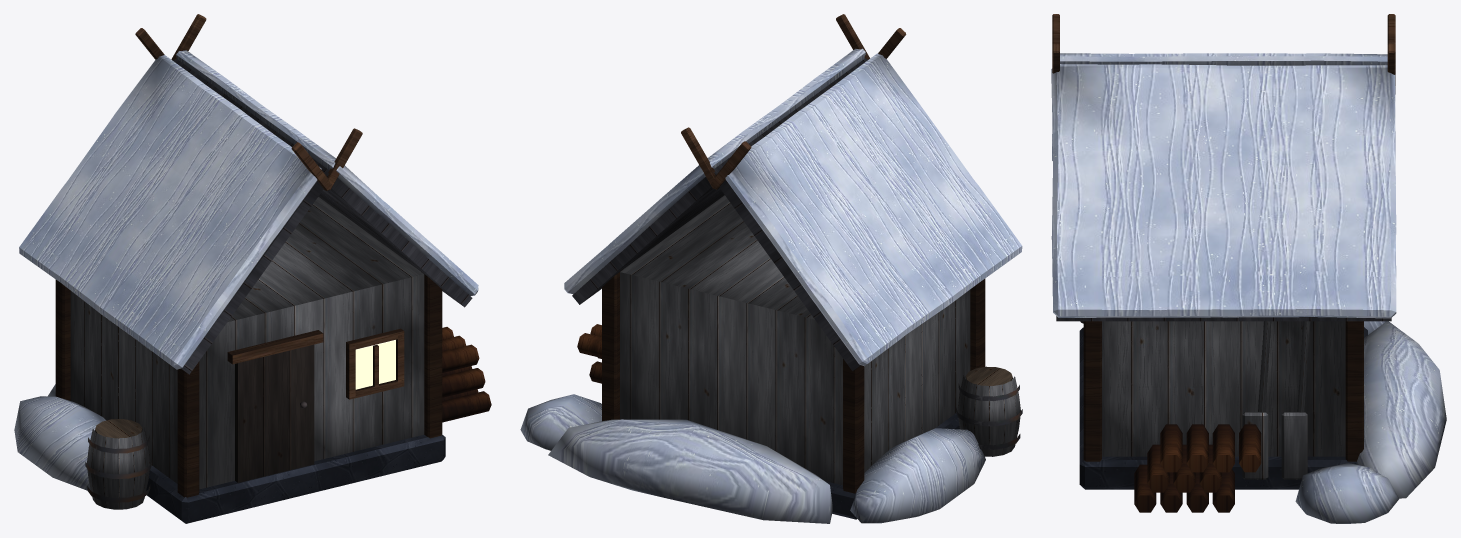
The model's file is rimeshore_fishing_hut.glb.
The picture shows the model from 3 angles, left to right: view 1: azimuth 30°, elevation 25°; view 2: azimuth 150°, elevation 25°; view 3: azimuth 270°, elevation 25°; orthographic projection. The views are drawn at different scales.
Parts seen in each view (by area): view 1: rimeshore_fishing_hut; view 2: rimeshore_fishing_hut; view 3: rimeshore_fishing_hut.
Part boxes in pixels (x1,y1,x2,y2): rimeshore_fishing_hut: (14,14,491,523); rimeshore_fishing_hut: (520,14,1022,523); rimeshore_fishing_hut: (1051,14,1446,523).
Size of the model in its own units: 3.82 by 3.31 by 3.02.
Materials: 6 (5 with a texture image).
